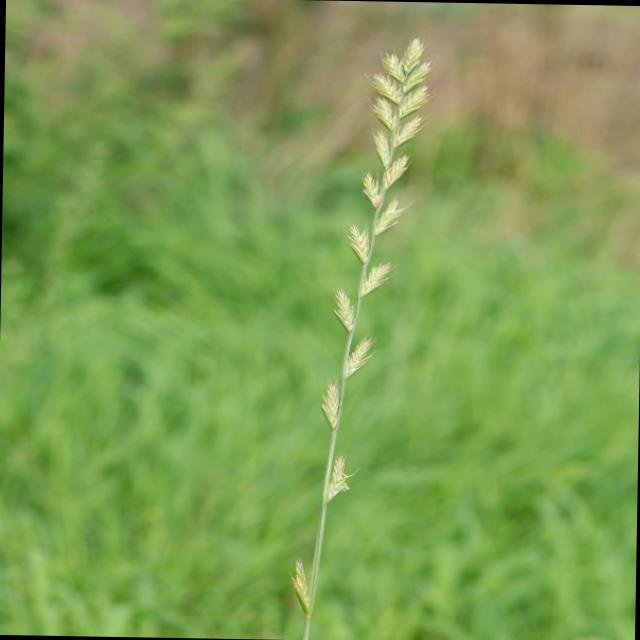Lolium: (286, 32, 436, 638)
